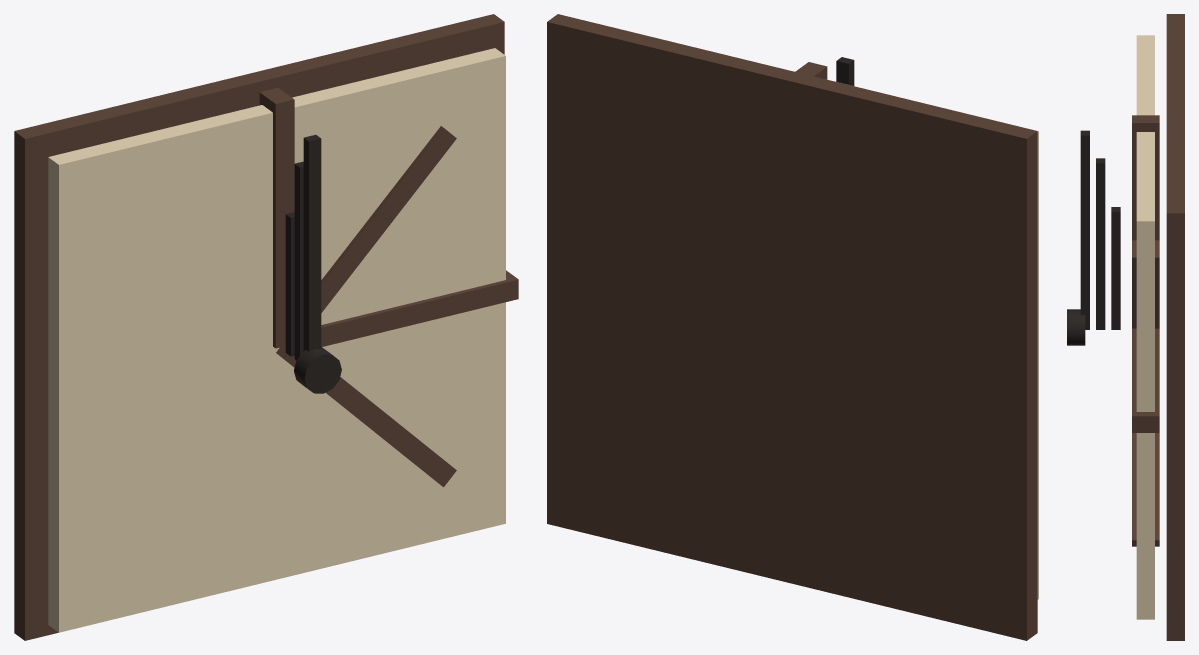
The model's file is analog-spoke-v1-model.glb.
The picture shows the model from 3 angles, left to right: view 1: azimuth 30°, elevation 25°; view 2: azimuth 150°, elevation 25°; view 3: azimuth 270°, elevation 25°; orthographic projection. The views are drawn at different scales.
Visible parts, largest first — view 1: clock-face, clock-back, clock-spoke-1, clock-spoke-3, clock-spoke-2, clock-second-hand, clock-spoke-4, clock-minute-hand, clock-center-cap, clock-hour-hand; view 2: clock-back, clock-face; view 3: clock-back, clock-face, clock-second-hand, clock-minute-hand, clock-spoke-1, clock-spoke-3, clock-hour-hand, clock-spoke-4, clock-spoke-2, clock-center-cap.
Boxes of the visible parts, x1,y1,x2,y2 form: clock-face: [48, 48, 505, 632]; clock-back: [14, 14, 504, 640]; clock-spoke-1: [259, 87, 294, 348]; clock-spoke-3: [285, 270, 518, 352]; clock-spoke-2: [279, 126, 456, 345]; clock-second-hand: [303, 134, 321, 351]; clock-spoke-4: [276, 346, 456, 487]; clock-minute-hand: [294, 161, 303, 360]; clock-center-cap: [294, 347, 341, 393]; clock-hour-hand: [285, 212, 294, 356]; clock-back: [547, 14, 1037, 640]; clock-face: [610, 26, 1038, 599]; clock-back: [1166, 14, 1184, 640]; clock-face: [1136, 35, 1154, 619]; clock-second-hand: [1080, 130, 1089, 329]; clock-minute-hand: [1096, 158, 1105, 329]; clock-spoke-1: [1132, 115, 1159, 240]; clock-spoke-3: [1132, 328, 1159, 432]; clock-hour-hand: [1111, 207, 1120, 329]; clock-spoke-4: [1132, 433, 1159, 546]; clock-spoke-2: [1132, 240, 1159, 328]; clock-center-cap: [1067, 309, 1085, 345].
Size of the model in its own units: 0.308 by 0.308 by 0.077.
